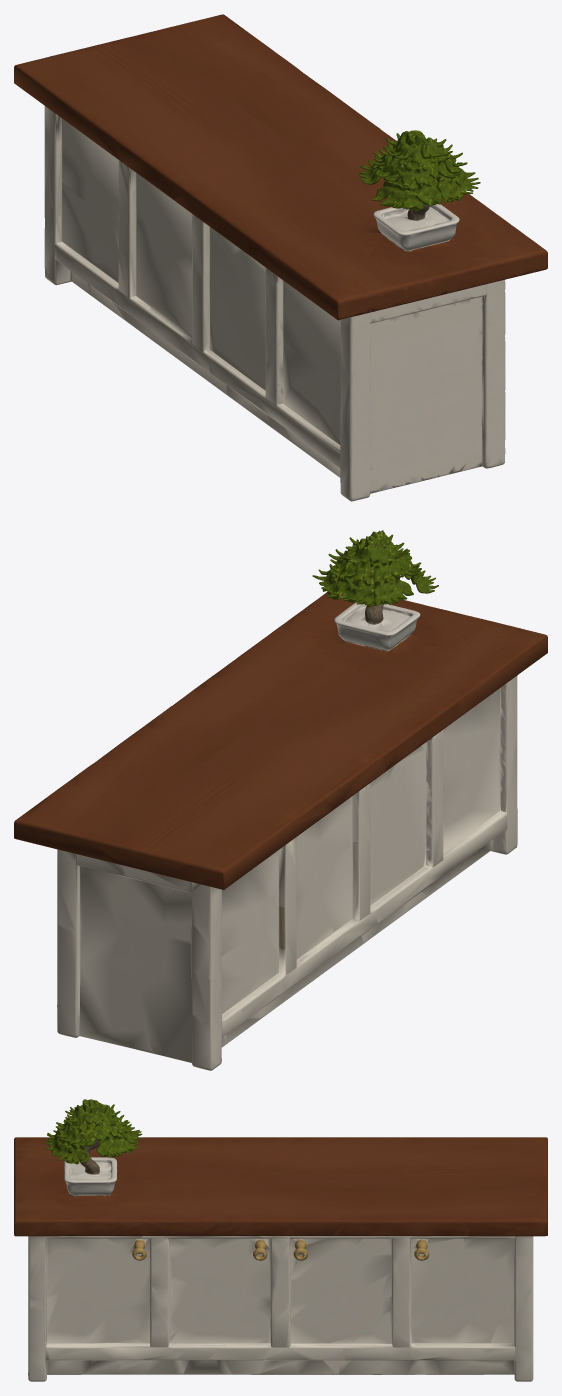
File: JP_사물_s2_desk_cashier_old.glb
3 views of the same model, one above another, from view 1: azimuth 30°, elevation 25°; view 2: azimuth 150°, elevation 25°; view 3: azimuth 270°, elevation 25° (orthographic). The views are drawn at different scales.
Visible parts, largest first — view 1: tripo_node_230c5c1f-807e-47d0-b71c-d84e53d43554; view 2: tripo_node_230c5c1f-807e-47d0-b71c-d84e53d43554; view 3: tripo_node_230c5c1f-807e-47d0-b71c-d84e53d43554.
Boxes of the visible parts, box(x1,y1,x2,y2) form: tripo_node_230c5c1f-807e-47d0-b71c-d84e53d43554: box(14, 14, 547, 501); tripo_node_230c5c1f-807e-47d0-b71c-d84e53d43554: box(14, 530, 547, 1070); tripo_node_230c5c1f-807e-47d0-b71c-d84e53d43554: box(14, 1099, 547, 1381).
Size of the model in its own units: 0.3746 by 0.542 by 0.9999.
Materials: 1 (1 with a texture image).
